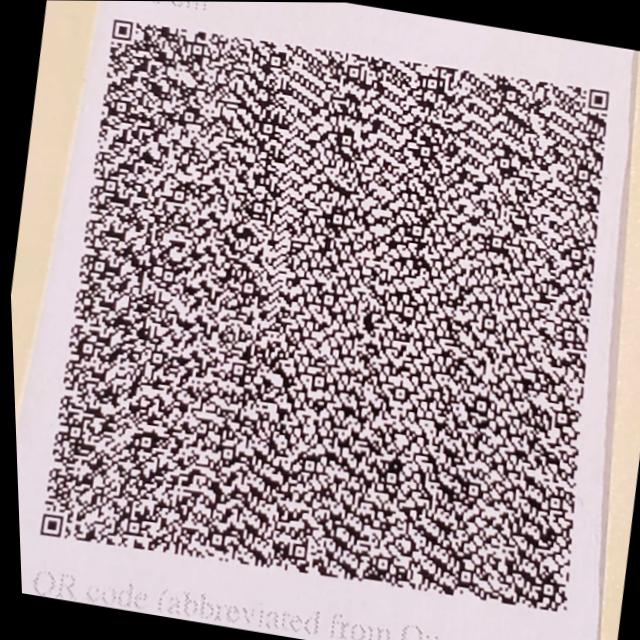QR_CODE: (1, 0, 640, 640)
